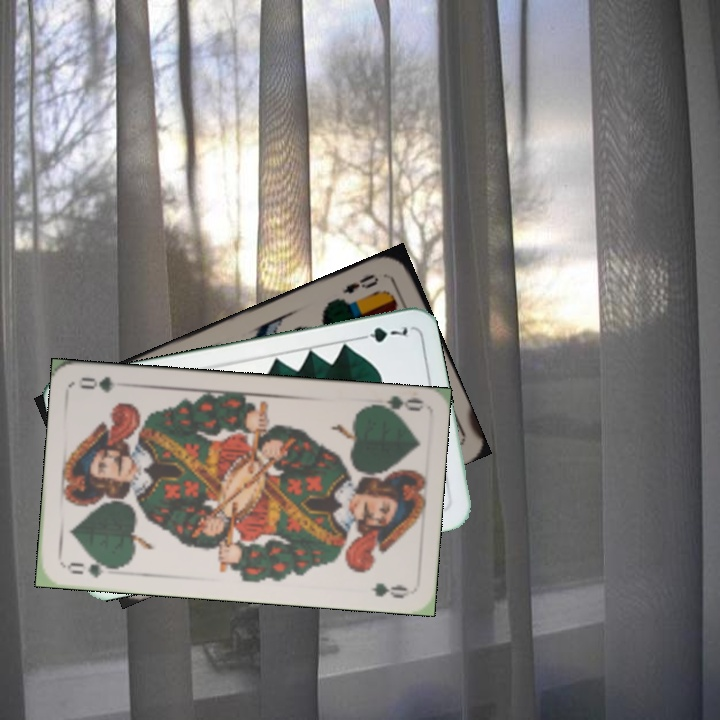EO: (338, 269, 381, 297)
G7: (352, 322, 411, 345)
GO: (364, 391, 424, 419), (63, 555, 121, 580)
